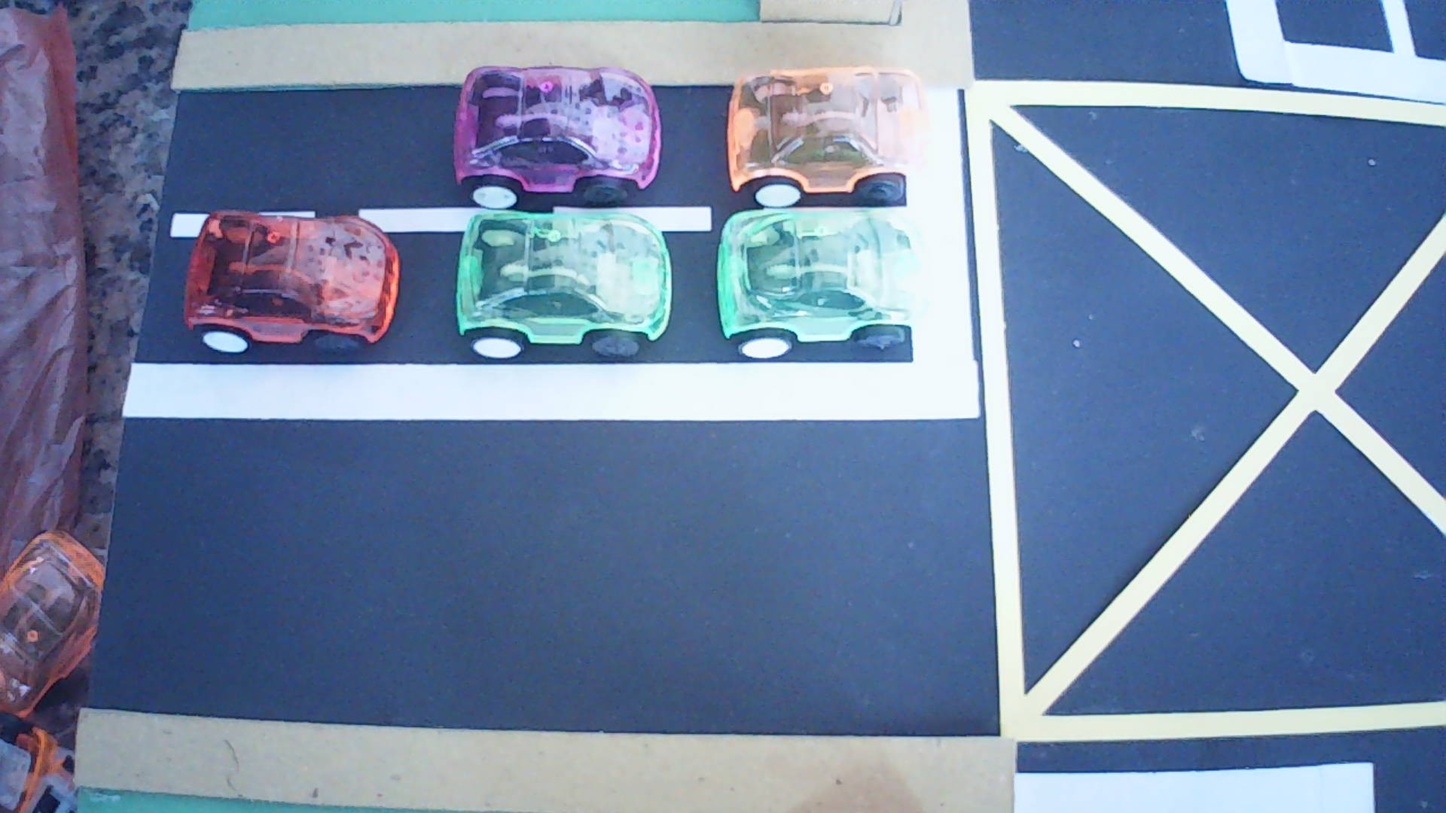Mobil hijau: (455, 210, 672, 359), (716, 207, 926, 358)
Mobil merah: (185, 210, 399, 353)
Mobil orange: (727, 66, 926, 206)
Mobil ungu: (453, 67, 661, 209)
